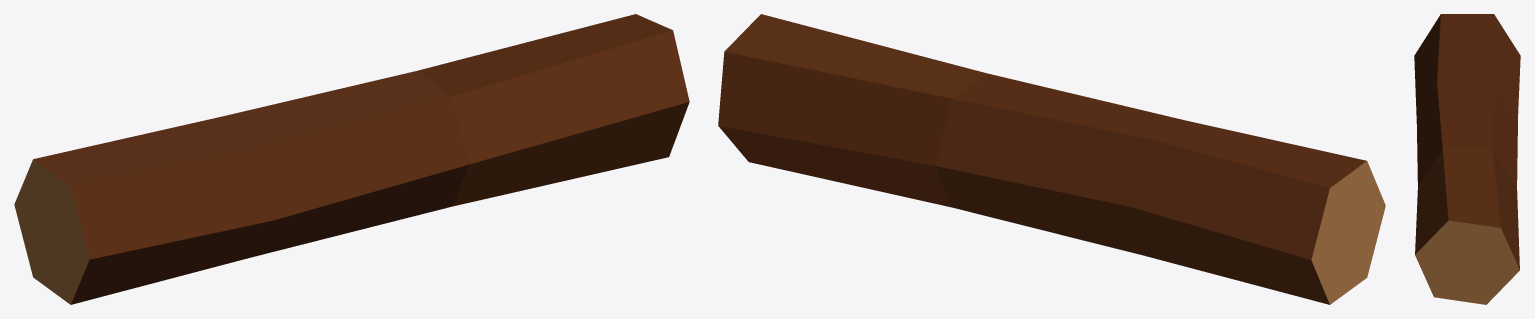
The model's file is WoodLog3.fbx.
The picture shows the model from 3 angles, left to right: view 1: azimuth 30°, elevation 25°; view 2: azimuth 150°, elevation 25°; view 3: azimuth 270°, elevation 25°; orthographic projection. The views are drawn at different scales.
Parts seen in each view (by area): view 1: Cylinder; view 2: Cylinder; view 3: Cylinder.
Part boxes in pixels (x1=…): Cylinder: x1=14, y1=14, x2=689, y2=304; Cylinder: x1=718, y1=14, x2=1385, y2=304; Cylinder: x1=1414, y1=14, x2=1520, y2=304.
Size of the model in its own units: 6.49 by 1.29 by 1.39.
